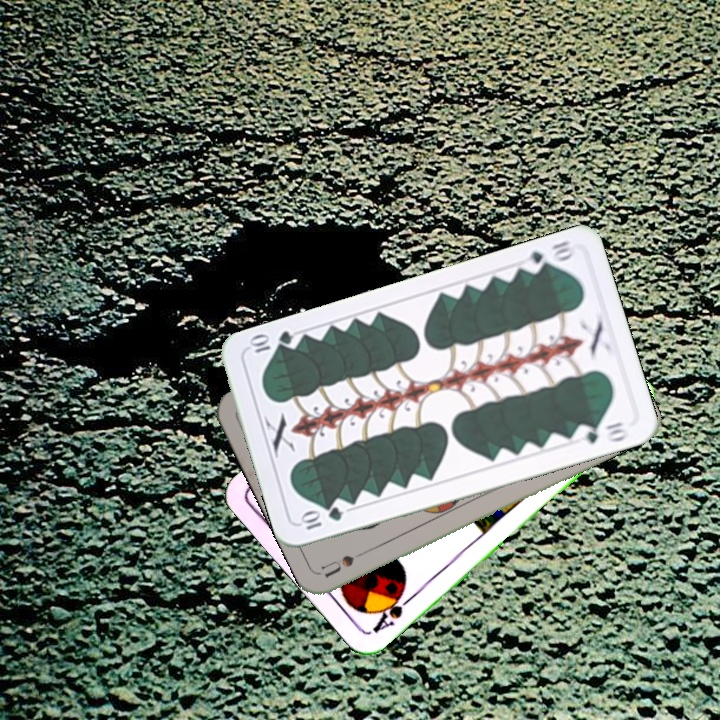G10: (518, 237, 579, 276), (296, 503, 345, 533)
SA: (368, 584, 417, 636)
SU: (317, 551, 357, 580)
